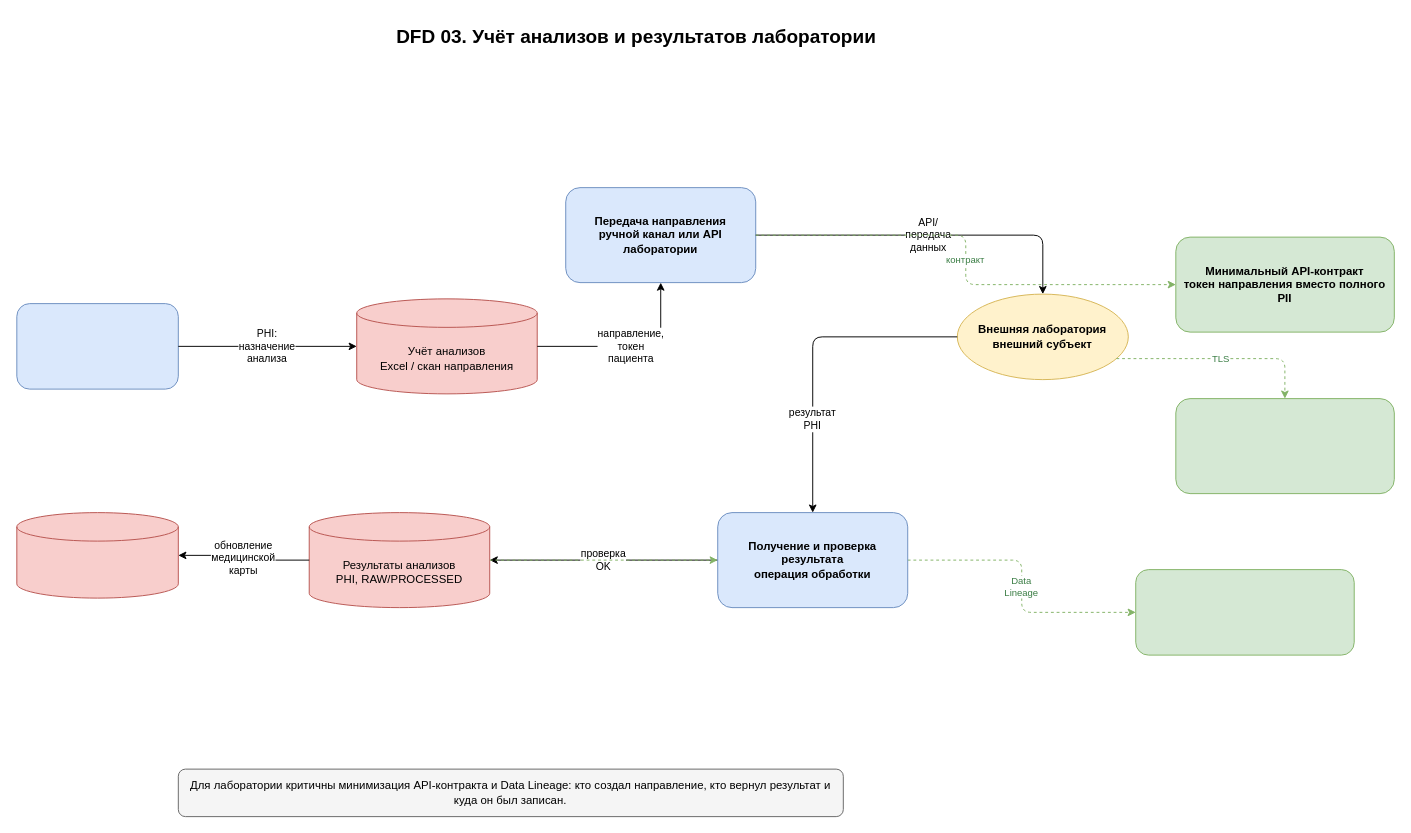
Some shapes in this 1411 by 833 pixel diagram are drawn without their labels. Here are the shapes that lost their labels. From the top down, the box of each, then its label:
(16, 303, 178, 389): Врач назначает анализ
(1175, 398, 1394, 494): Защита канала TLS, проверка целостности, аутентификация лаборатории
(16, 512, 178, 598): Медицинская карта связь с результатом
(1135, 569, 1354, 655): Data Lineage результата источник, версия, врач, дата, пациент
